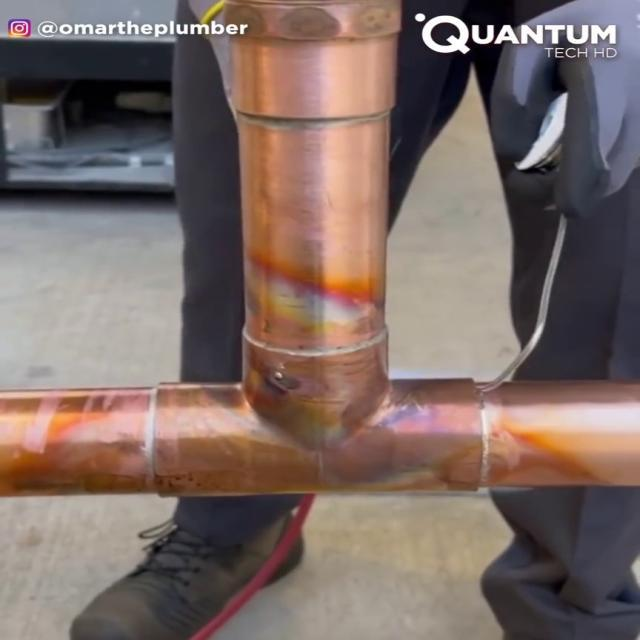Good Welding: (239, 323, 392, 360), (240, 110, 388, 136), (143, 381, 163, 503), (472, 371, 492, 490)
